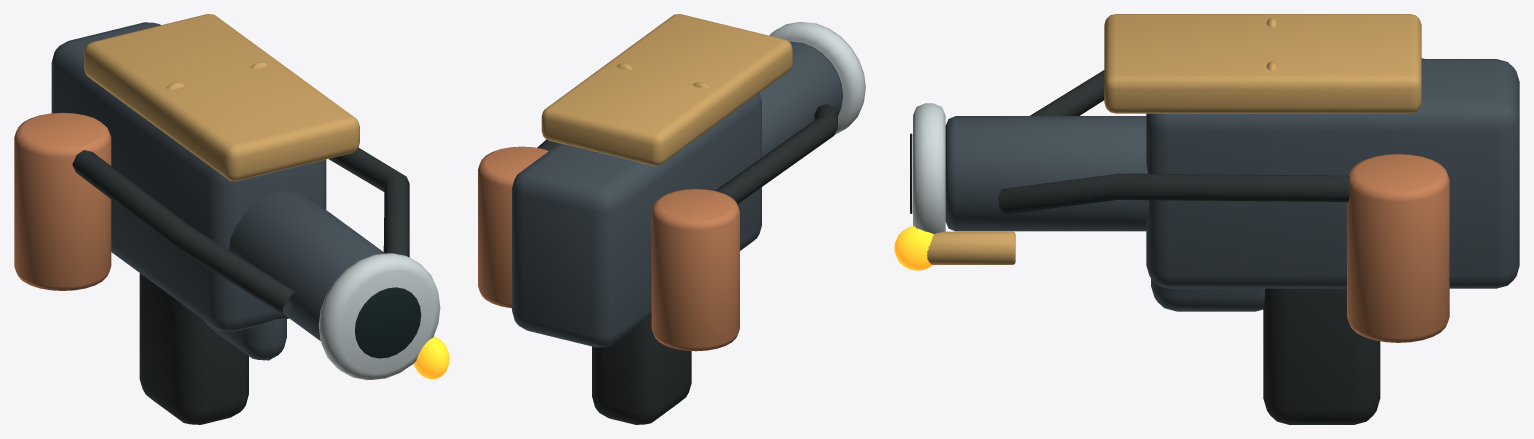
File: flamethrower.t3.glb
3 views of the same model, side by side, from view 1: azimuth 30°, elevation 25°; view 2: azimuth 150°, elevation 25°; view 3: azimuth 270°, elevation 25° (orthographic). The views are drawn at different scales.
Parts seen in each view (by area): view 1: weapon_right__forged_bluelead_steel__protected, weapon_right__worn_warm_brass__protected, weapon_right__charcoal_rubber__protected, weapon_right__burnished_copper__protected, weapon_right__honed_steel_edge__protected, weapon_right__eye_socket__protected, weapon_right__flame_channel__protected; view 2: weapon_right__forged_bluelead_steel__protected, weapon_right__worn_warm_brass__protected, weapon_right__burnished_copper__protected, weapon_right__charcoal_rubber__protected, weapon_right__honed_steel_edge__protected; view 3: weapon_right__forged_bluelead_steel__protected, weapon_right__worn_warm_brass__protected, weapon_right__charcoal_rubber__protected, weapon_right__burnished_copper__protected, weapon_right__honed_steel_edge__protected, weapon_right__flame_channel__protected.
Boxes of the visible parts, bbox=[...] form: weapon_right__forged_bluelead_steel__protected: bbox=[51, 22, 385, 360]; weapon_right__worn_warm_brass__protected: bbox=[84, 14, 413, 364]; weapon_right__charcoal_rubber__protected: bbox=[72, 147, 409, 424]; weapon_right__burnished_copper__protected: bbox=[14, 112, 111, 290]; weapon_right__honed_steel_edge__protected: bbox=[318, 253, 440, 380]; weapon_right__eye_socket__protected: bbox=[355, 287, 421, 358]; weapon_right__flame_channel__protected: bbox=[413, 336, 449, 379]; weapon_right__forged_bluelead_steel__protected: bbox=[512, 41, 842, 347]; weapon_right__worn_warm_brass__protected: bbox=[541, 14, 792, 166]; weapon_right__burnished_copper__protected: bbox=[478, 146, 739, 351]; weapon_right__charcoal_rubber__protected: bbox=[537, 104, 837, 424]; weapon_right__honed_steel_edge__protected: bbox=[769, 22, 865, 134]; weapon_right__forged_bluelead_steel__protected: bbox=[945, 59, 1519, 311]; weapon_right__worn_warm_brass__protected: bbox=[927, 14, 1421, 264]; weapon_right__charcoal_rubber__protected: bbox=[998, 70, 1380, 424]; weapon_right__burnished_copper__protected: bbox=[1347, 58, 1449, 342]; weapon_right__honed_steel_edge__protected: bbox=[913, 103, 945, 233]; weapon_right__flame_channel__protected: bbox=[894, 226, 933, 270].
Size of the model in its own units: 0.36 by 0.442 by 0.67.
